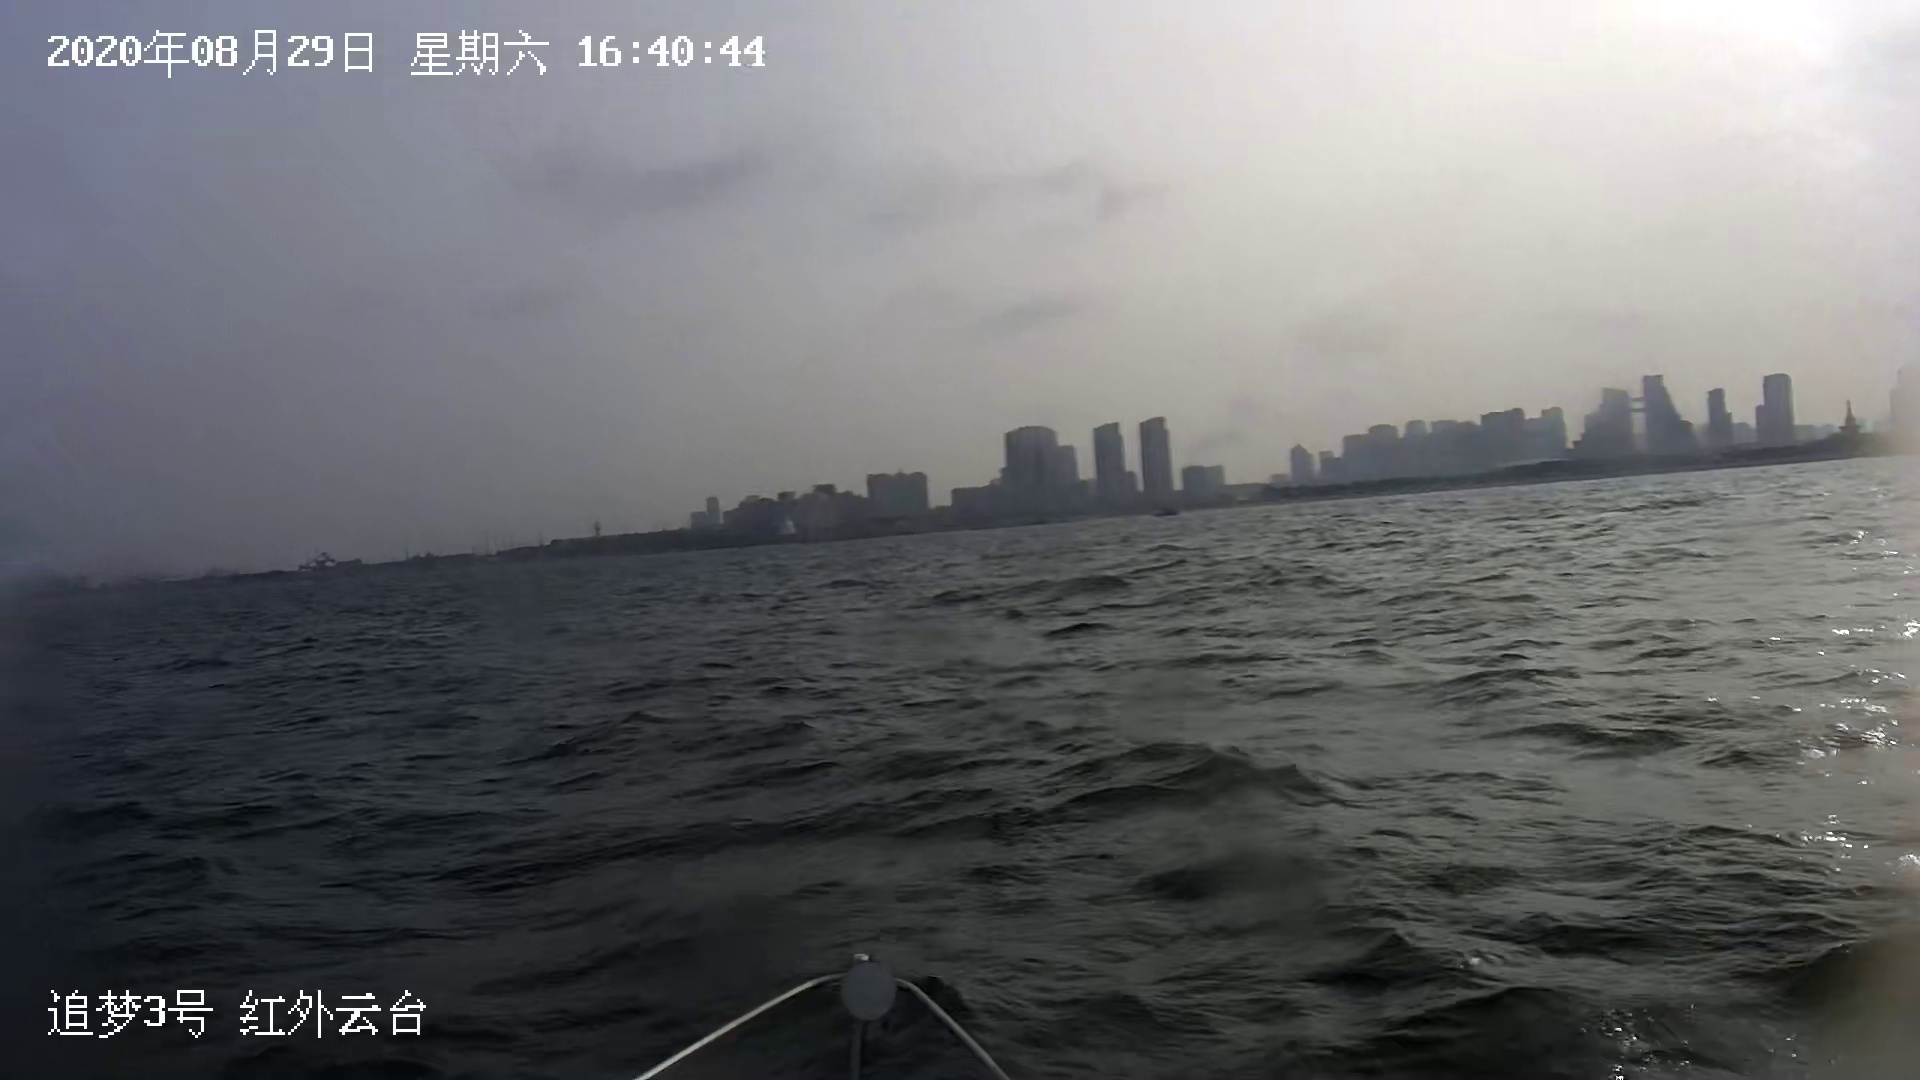coast: (1, 355, 1917, 603)
this: (632, 963, 1017, 1079)
